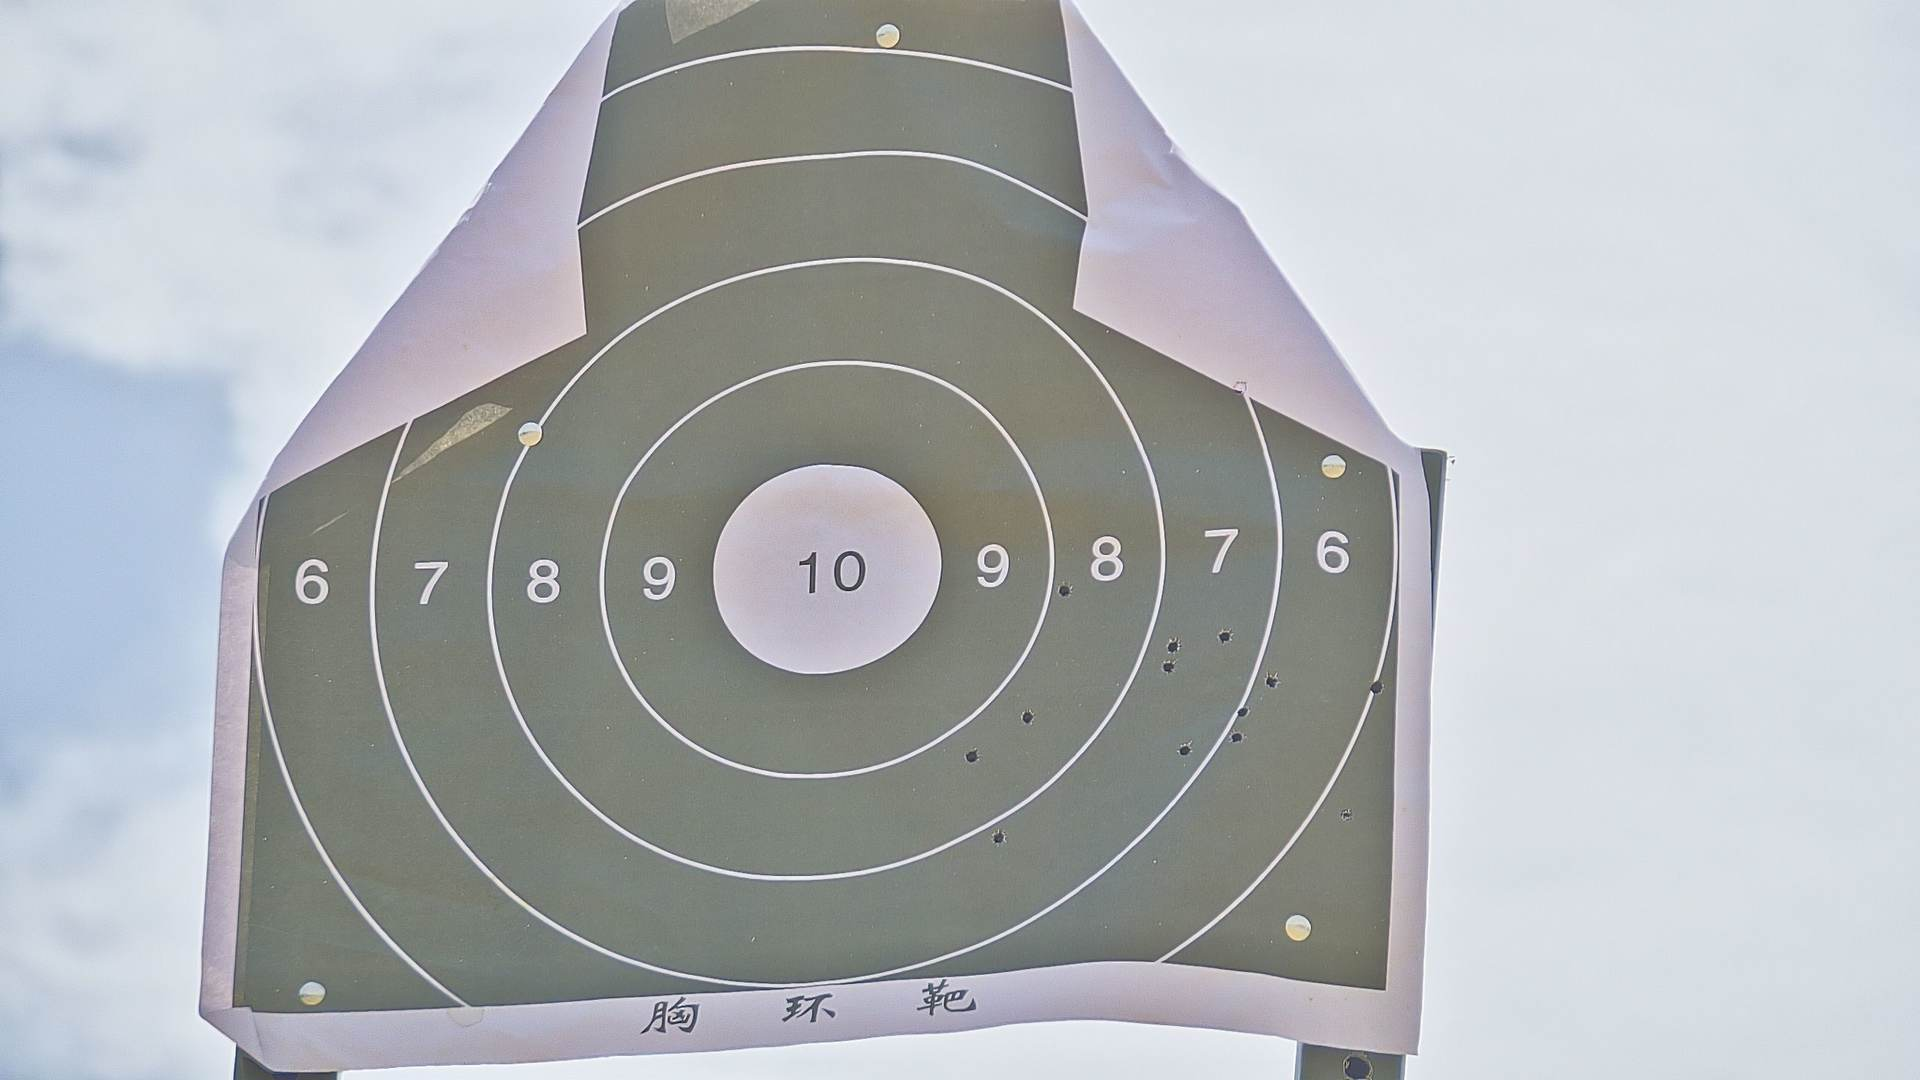hole: (1265, 674, 1280, 688), (1370, 680, 1385, 696), (1058, 584, 1073, 597), (992, 828, 1005, 844), (1022, 708, 1033, 727), (965, 749, 978, 764), (1217, 629, 1232, 642), (1167, 640, 1180, 653), (1338, 808, 1352, 822), (1236, 705, 1250, 717), (1163, 659, 1175, 673), (1178, 745, 1191, 757), (1232, 732, 1244, 744)
kernel: (825, 572, 828, 580)
target: (232, 7, 1396, 1017)
ten: (709, 464, 942, 678)
